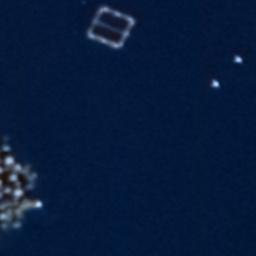square_solid: (82, 3, 139, 53)
